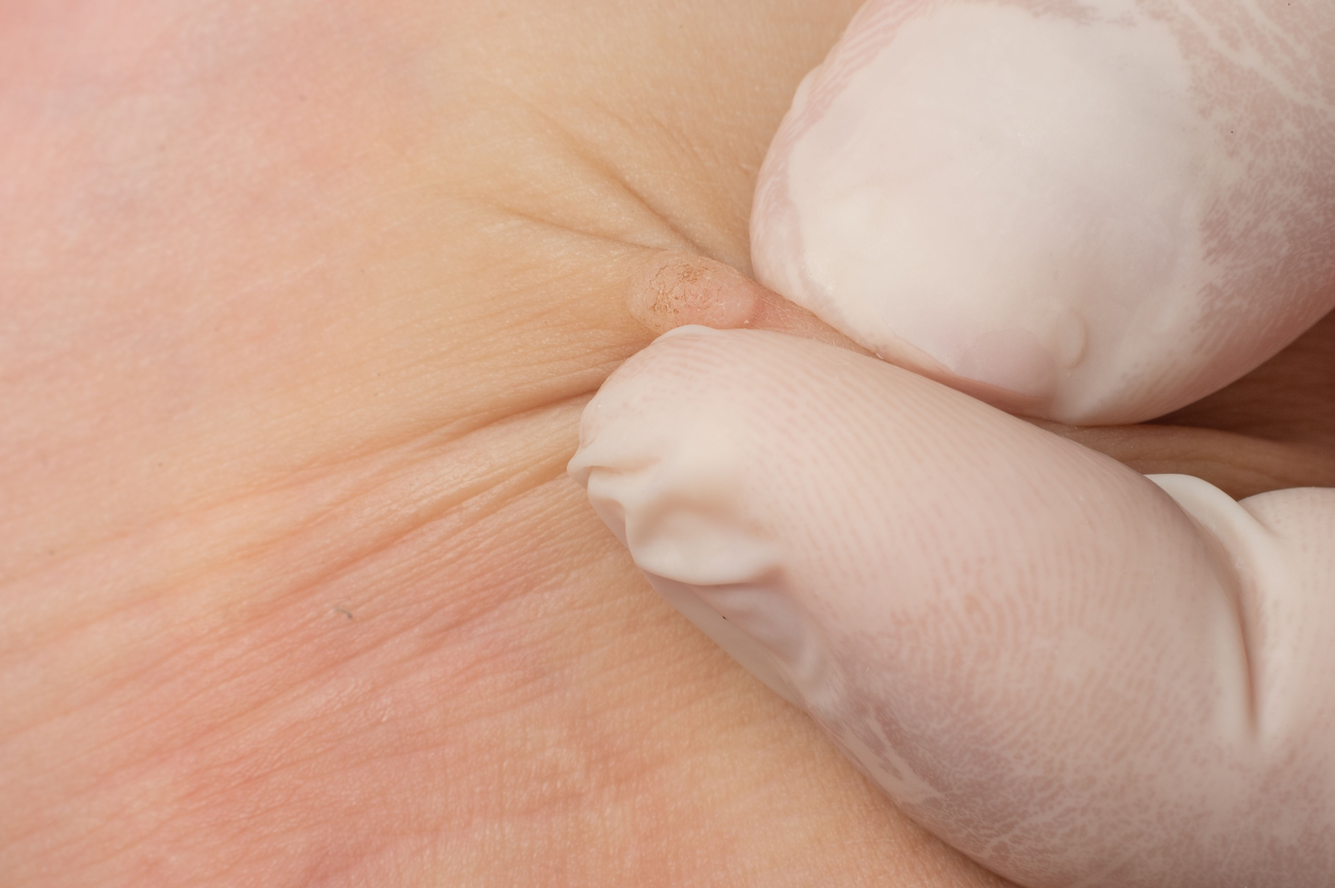Warts: (592, 199, 754, 335)
